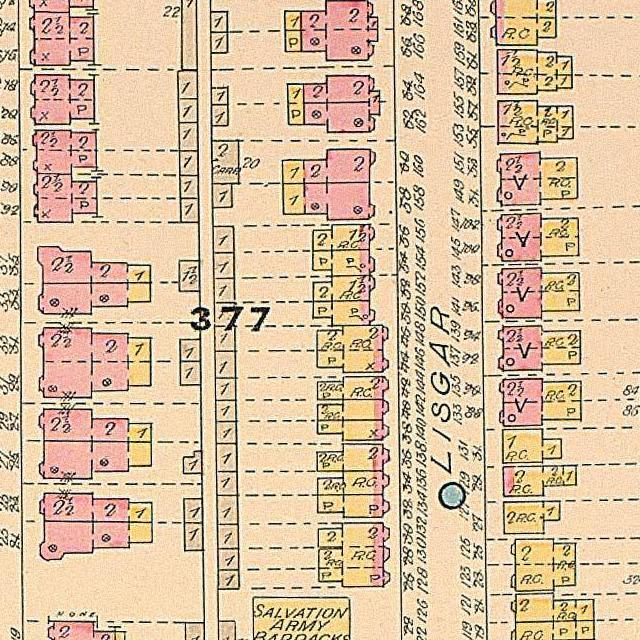building-footprints: (39, 328, 151, 398), (318, 523, 390, 587), (301, 1, 378, 60), (40, 522, 152, 561), (303, 76, 380, 132), (39, 441, 151, 479), (497, 153, 578, 205), (38, 246, 151, 283), (254, 597, 350, 640), (498, 268, 580, 318), (497, 213, 579, 261), (500, 379, 581, 426), (39, 409, 151, 442), (499, 326, 580, 370), (39, 283, 151, 314), (30, 12, 94, 65), (283, 183, 374, 220), (511, 539, 575, 591), (317, 326, 388, 372), (498, 50, 572, 94), (498, 101, 573, 144), (40, 494, 152, 522), (31, 75, 94, 124), (282, 149, 370, 184), (34, 174, 97, 222), (33, 131, 96, 174), (496, 0, 556, 45), (512, 594, 594, 623), (503, 466, 576, 496), (503, 429, 561, 463), (317, 444, 389, 471), (504, 501, 560, 534), (317, 471, 389, 495), (313, 224, 375, 251), (317, 377, 389, 400), (318, 494, 389, 517), (313, 250, 375, 276), (512, 621, 594, 640), (313, 301, 375, 326), (313, 276, 375, 301), (317, 399, 389, 420), (48, 621, 125, 640), (317, 420, 389, 440), (212, 141, 239, 183), (182, 0, 196, 70), (29, 0, 93, 13), (288, 84, 304, 125), (179, 261, 200, 291), (217, 495, 238, 524), (215, 351, 236, 378), (217, 443, 237, 471), (178, 71, 198, 99), (179, 122, 198, 151), (217, 524, 239, 549), (213, 227, 234, 253), (214, 253, 235, 278), (184, 523, 203, 550), (180, 361, 201, 385), (214, 278, 235, 302), (215, 326, 235, 351), (217, 471, 237, 495), (178, 99, 198, 123), (180, 150, 198, 176), (216, 421, 237, 443), (216, 378, 236, 401), (215, 303, 235, 326), (212, 184, 232, 207), (218, 549, 239, 570), (216, 400, 236, 422), (180, 175, 199, 198), (183, 451, 202, 474), (184, 499, 202, 523), (181, 198, 199, 222), (180, 340, 200, 361), (218, 570, 239, 589), (210, 32, 228, 53), (211, 105, 228, 126), (186, 622, 205, 640), (211, 11, 227, 32), (285, 11, 301, 31), (285, 31, 301, 51), (218, 622, 235, 640), (212, 88, 227, 105), (491, 0, 496, 16), (370, 151, 375, 166), (491, 25, 496, 39)
